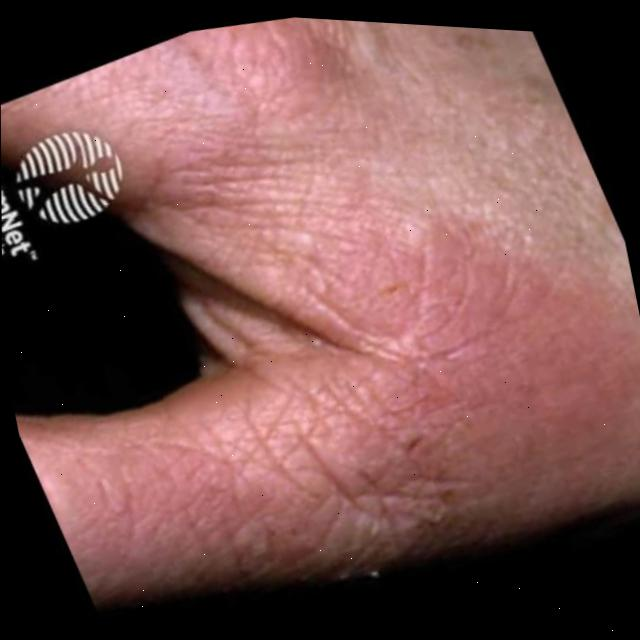Eczema: (5, 0, 620, 619)
